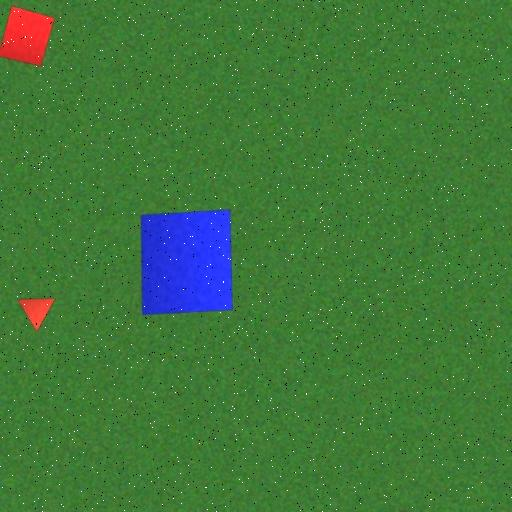BLUE_SQUARE: (140, 209, 234, 316)
RED_SQUARE: (0, 5, 55, 66)
